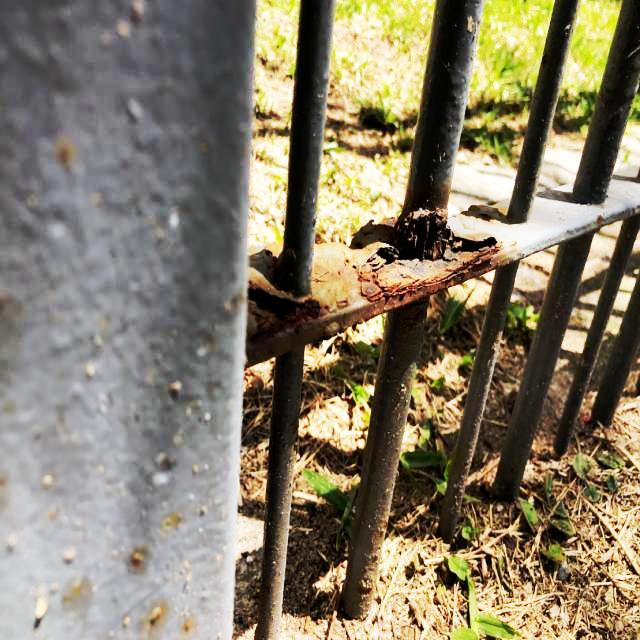Corrosion: (246, 194, 521, 370)
